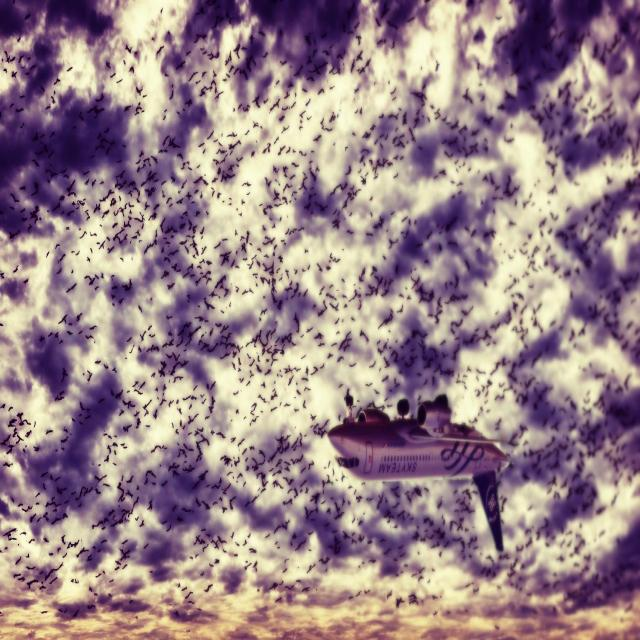airplane: (326, 391, 509, 552)
